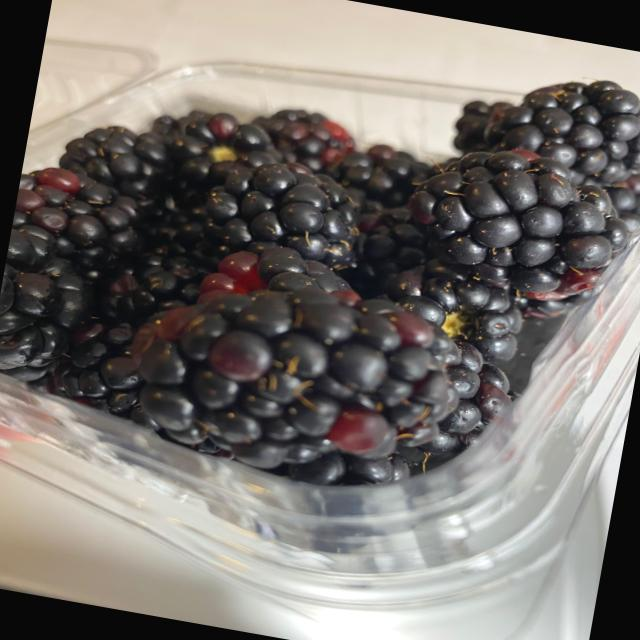blackberries: (0, 0, 640, 532)
